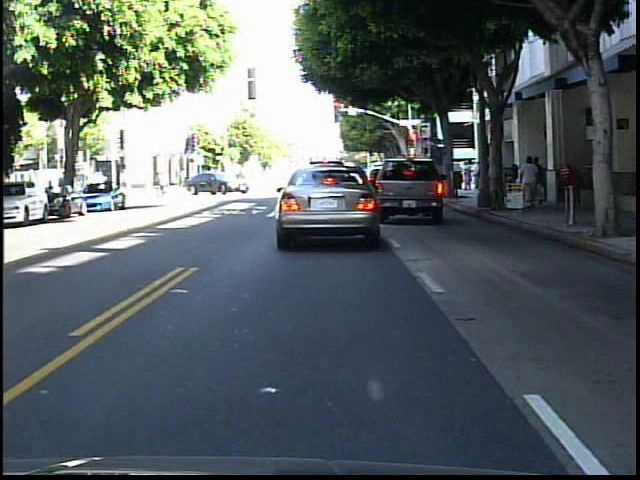person: (521, 154, 541, 209), (534, 154, 548, 208), (57, 169, 76, 206)
